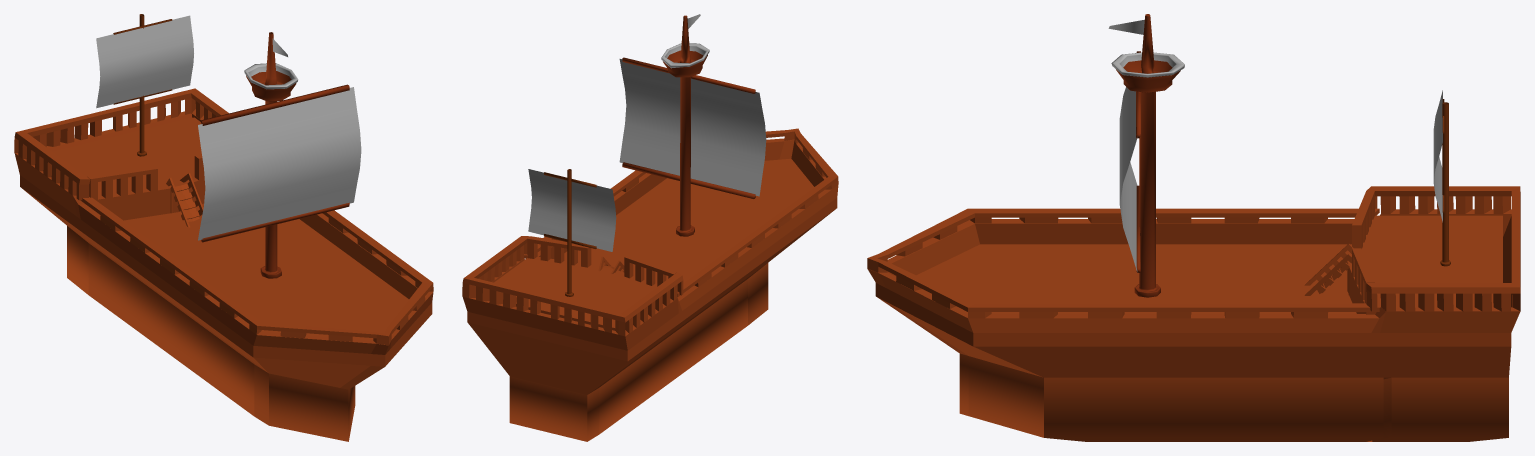
Rendered from Ship.fbx.
The picture shows the model from 3 angles, left to right: view 1: azimuth 30°, elevation 25°; view 2: azimuth 150°, elevation 25°; view 3: azimuth 270°, elevation 25°; orthographic projection. The views are drawn at different scales.
Visible parts, largest first — view 1: Cube, Cube.001, Cube.002; view 2: Cube, Cube.001, Cube.002; view 3: Cube, Cube.001, Cube.002.
Boxes of the visible parts, left/top/right/bottom form: Cube: left=14, top=88, right=433, bottom=441; Cube.001: left=96, top=15, right=361, bottom=278; Cube.002: left=113, top=14, right=172, bottom=156; Cube: left=462, top=128, right=838, bottom=441; Cube.001: left=528, top=14, right=766, bottom=251; Cube.002: left=544, top=169, right=596, bottom=296; Cube: left=867, top=186, right=1520, bottom=441; Cube.001: left=1108, top=14, right=1442, bottom=297; Cube.002: left=1440, top=99, right=1450, bottom=266.
Bounding box in the file's own units: 465 × 864 × 1256.
